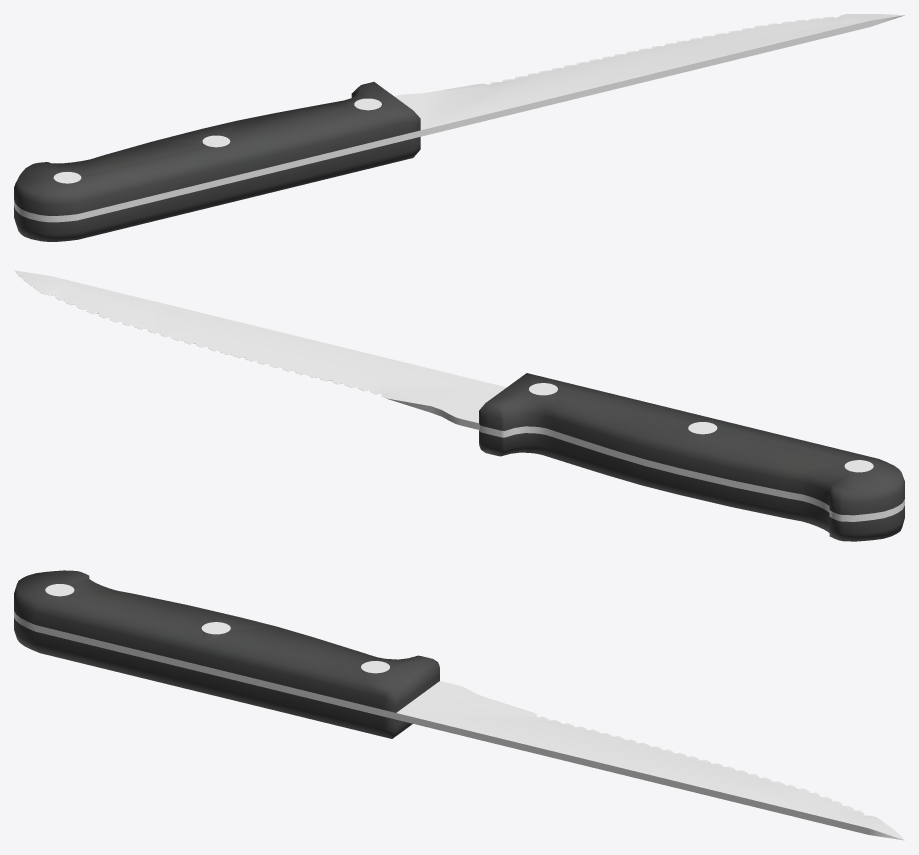
Rendered from SteakKnife.dae.
3 views of the same model, one above another, from view 1: azimuth 30°, elevation 25°; view 2: azimuth 150°, elevation 25°; view 3: azimuth 330°, elevation 25° (orthographic). The views are drawn at different scales.
Visible parts, largest first — view 1: SteakKnife; view 2: SteakKnife; view 3: SteakKnife.
Boxes of the visible parts, <box> form: SteakKnife: <box>14,14,904,241</box>; SteakKnife: <box>14,270,904,541</box>; SteakKnife: <box>14,570,904,840</box>.
Bounding box in the file's own units: 0.1506 × 0.0136 × 0.00884.
Materials: 1 (1 with a texture image).
